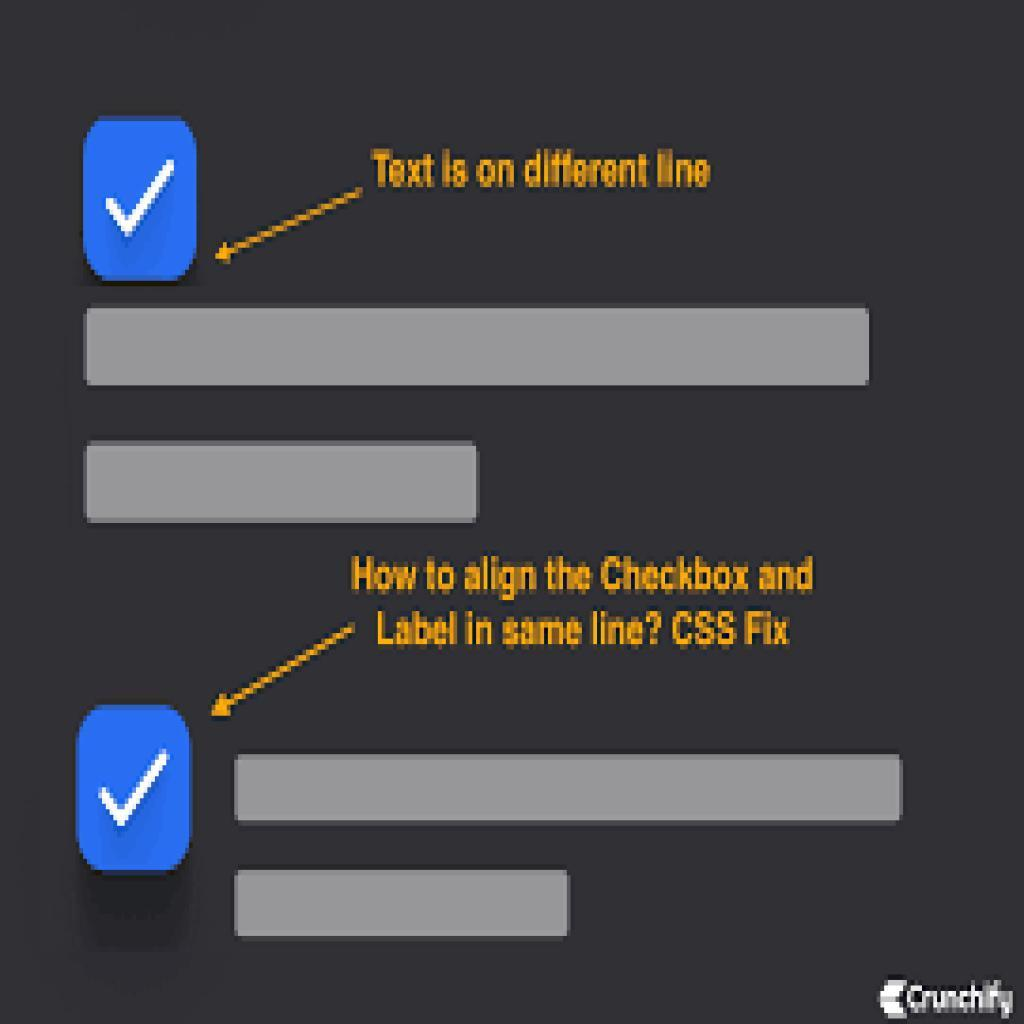checkbox: (77, 702, 195, 873), (84, 117, 199, 284)
